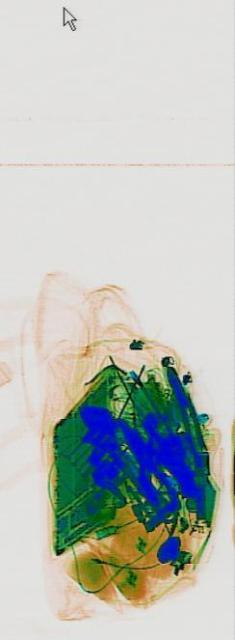Pliers: (161, 349, 206, 466)
